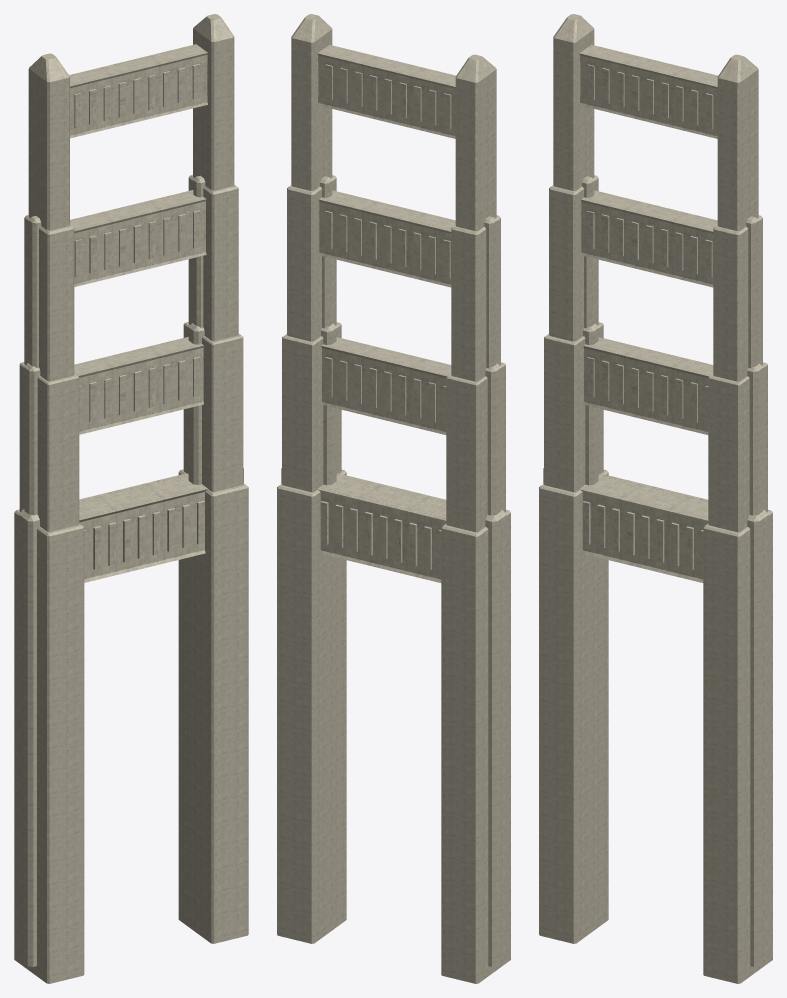
The model's file is BridgeSuspensionPillar-4L.FBX.
3 views of the same model, side by side, from view 1: azimuth 30°, elevation 25°; view 2: azimuth 150°, elevation 25°; view 3: azimuth 330°, elevation 25° (orthographic).
Parts seen in each view (by area): view 1: BridgeSuspensionPillar-4L; view 2: BridgeSuspensionPillar-4L; view 3: BridgeSuspensionPillar-4L.
Boxes of the visible parts, x1,y1,x2,y2 form: BridgeSuspensionPillar-4L: [14, 14, 248, 983]; BridgeSuspensionPillar-4L: [277, 14, 510, 983]; BridgeSuspensionPillar-4L: [539, 14, 772, 983].
Bounding box in the file's own units: 58 × 233 × 16.
